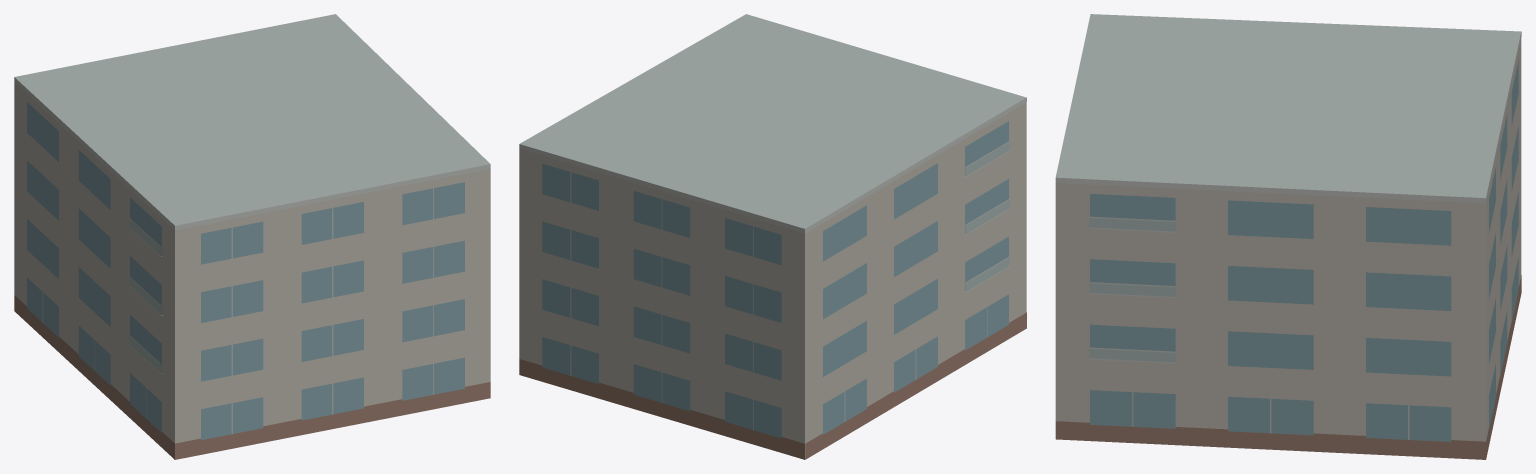
File: survey-upis-32524177.glb
The picture shows the model from 3 angles, left to right: view 1: azimuth 30°, elevation 25°; view 2: azimuth 150°, elevation 25°; view 3: azimuth 270°, elevation 25°; orthographic projection. The views are drawn at different scales.
Visible parts, largest first — view 1: survey-upis-32524177.tmp; view 2: survey-upis-32524177.tmp; view 3: survey-upis-32524177.tmp.
Part boxes in pixels (<box>): survey-upis-32524177.tmp: <box>14,14,490,459</box>; survey-upis-32524177.tmp: <box>519,14,1026,459</box>; survey-upis-32524177.tmp: <box>1055,14,1521,459</box>.
Size of the model in its own units: 18.42 by 12.2 by 19.69.
